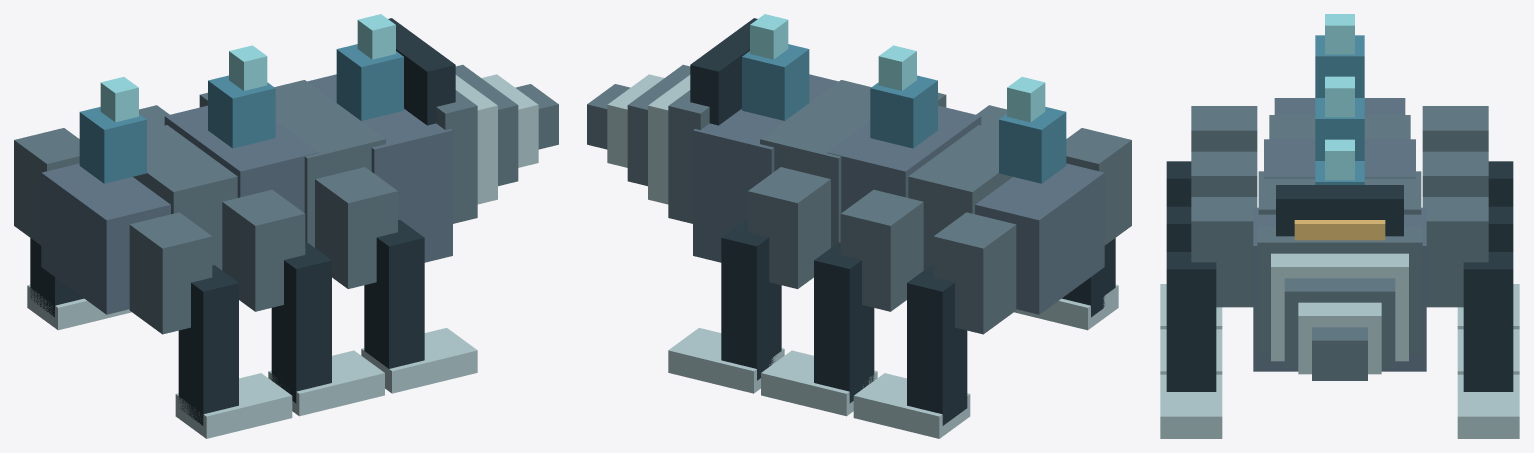
The model's file is drill-worm.glb.
The picture shows the model from 3 angles, left to right: view 1: azimuth 30°, elevation 25°; view 2: azimuth 150°, elevation 25°; view 3: azimuth 270°, elevation 25°; orthographic projection.
Visible parts, largest first — view 1: Carapace, LegJoints, Legs, Claws, CrystalBase, DrillHead, CrystalTip, OpticHousing; view 2: Carapace, LegJoints, Legs, CrystalBase, Claws, DrillHead, CrystalTip, OpticHousing; view 3: LegJoints, DrillHead, Legs, Carapace, Claws, OpticHousing, CrystalBase, CrystalTip, OpticLens.
Part boxes in pixels (left/top/right/bottom): Carapace: left=41, top=74, right=452, bottom=314; LegJoints: left=14, top=92, right=397, bottom=334; Legs: left=30, top=219, right=424, bottom=425; Claws: left=27, top=284, right=477, bottom=438; CrystalBase: left=79, top=44, right=403, bottom=183; DrillHead: left=436, top=64, right=558, bottom=223; CrystalTip: left=100, top=14, right=395, bottom=122; OpticHousing: left=388, top=18, right=455, bottom=125; Carapace: left=693, top=74, right=1104, bottom=314; LegJoints: left=748, top=92, right=1131, bottom=334; Legs: left=721, top=219, right=1115, bottom=425; CrystalBase: left=742, top=44, right=1066, bottom=183; Claws: left=668, top=284, right=1118, bottom=438; DrillHead: left=587, top=64, right=709, bottom=223; CrystalTip: left=750, top=14, right=1045, bottom=122; OpticHousing: left=690, top=18, right=757, bottom=125; LegJoints: left=1191, top=106, right=1488, bottom=307; DrillHead: left=1257, top=227, right=1422, bottom=380; Legs: left=1166, top=161, right=1513, bottom=391; Carapace: left=1253, top=98, right=1426, bottom=371; Claws: left=1160, top=284, right=1519, bottom=438; OpticHousing: left=1276, top=185, right=1403, bottom=236; CrystalBase: left=1315, top=35, right=1364, bottom=184; CrystalTip: left=1325, top=14, right=1354, bottom=180; OpticLens: left=1294, top=220, right=1385, bottom=240.
Bounding box in the file's own units: 6.59 × 3.85 × 4.35.
